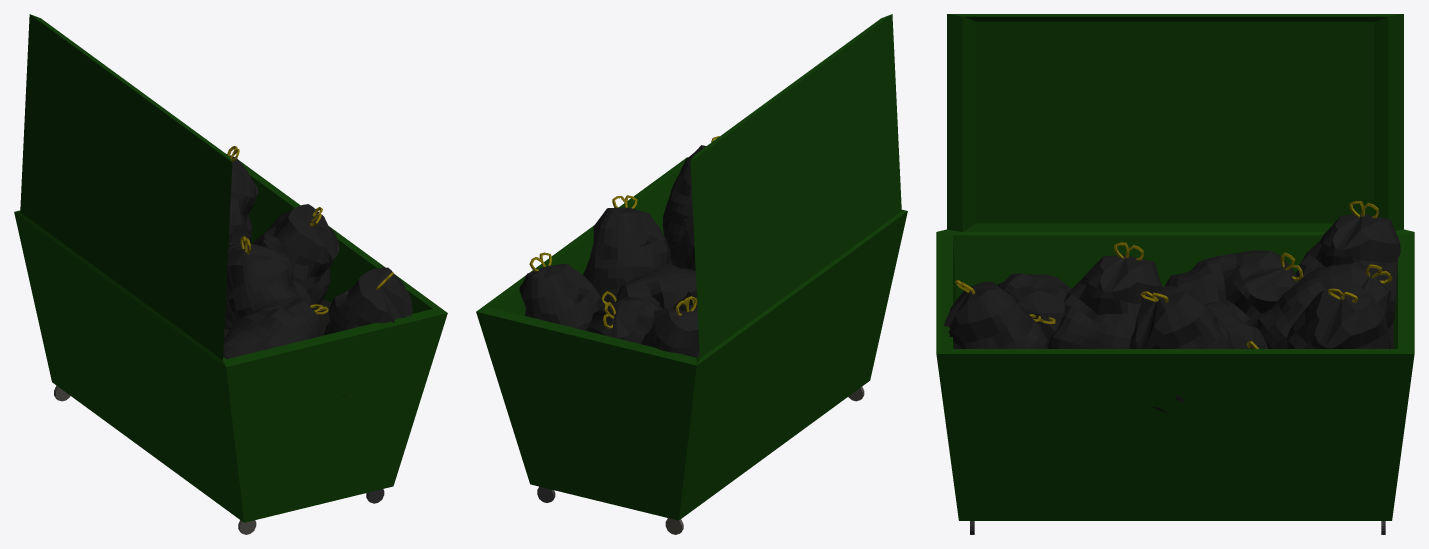
Rendered from benne.fbx.
3 renders of one model, left to right at view 1: azimuth 30°, elevation 25°; view 2: azimuth 150°, elevation 25°; view 3: azimuth 270°, elevation 25°, orthographic. The views are drawn at different scales.
Visible parts, largest first — view 1: Cube, Sphère.005, Sphère.006, Sphère.007, Sphère.008, Sphère.002; view 2: Cube, Sphère.005, Sphère.002, Sphère.001, Sphère.009, Sphère.003, Sphère.008, Sphère.006; view 3: Cube, Sphère.006, Sphère.004, Sphère.002, Sphère.008, Sphère.005, Sphère.001, Sphère.003, Sphère.007, Sphère.009.
Part boxes in pixels (left/top/right/bottom): Cube: left=14, top=14, right=447, bottom=522; Sphère.005: left=253, top=204, right=339, bottom=309; Sphère.006: left=225, top=243, right=321, bottom=331; Sphère.007: left=223, top=296, right=322, bottom=359; Sphère.008: left=323, top=267, right=412, bottom=335; Sphère.002: left=228, top=155, right=257, bottom=245; Cube: left=476, top=14, right=907, bottom=520; Sphère.005: left=583, top=207, right=672, bottom=303; Sphère.002: left=519, top=263, right=604, bottom=330; Sphère.001: left=641, top=304, right=699, bottom=357; Sphère.009: left=616, top=265, right=696, bottom=308; Sphère.003: left=586, top=297, right=662, bottom=343; Sphère.008: left=662, top=145, right=706, bottom=249; Sphère.006: left=669, top=217, right=695, bottom=270; Cube: left=936, top=14, right=1414, bottom=520; Sphère.006: left=1048, top=255, right=1161, bottom=348; Sphère.004: left=1165, top=250, right=1299, bottom=327; Sphère.002: left=1286, top=284, right=1390, bottom=348; Sphère.008: left=944, top=281, right=1047, bottom=348; Sphère.005: left=1129, top=285, right=1232, bottom=401; Sphère.001: left=1296, top=214, right=1400, bottom=328; Sphère.003: left=1256, top=262, right=1391, bottom=348; Sphère.007: left=996, top=273, right=1071, bottom=347; Sphère.009: left=1205, top=301, right=1267, bottom=348.
Bounding box in the file's own units: 605 × 1006 × 1002.
